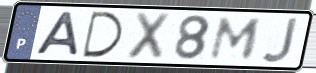8: (172, 14, 212, 62)
A: (32, 11, 81, 58)
D: (81, 10, 126, 59)
J: (259, 16, 301, 65)
M: (207, 15, 265, 61)
X: (123, 10, 174, 63)
